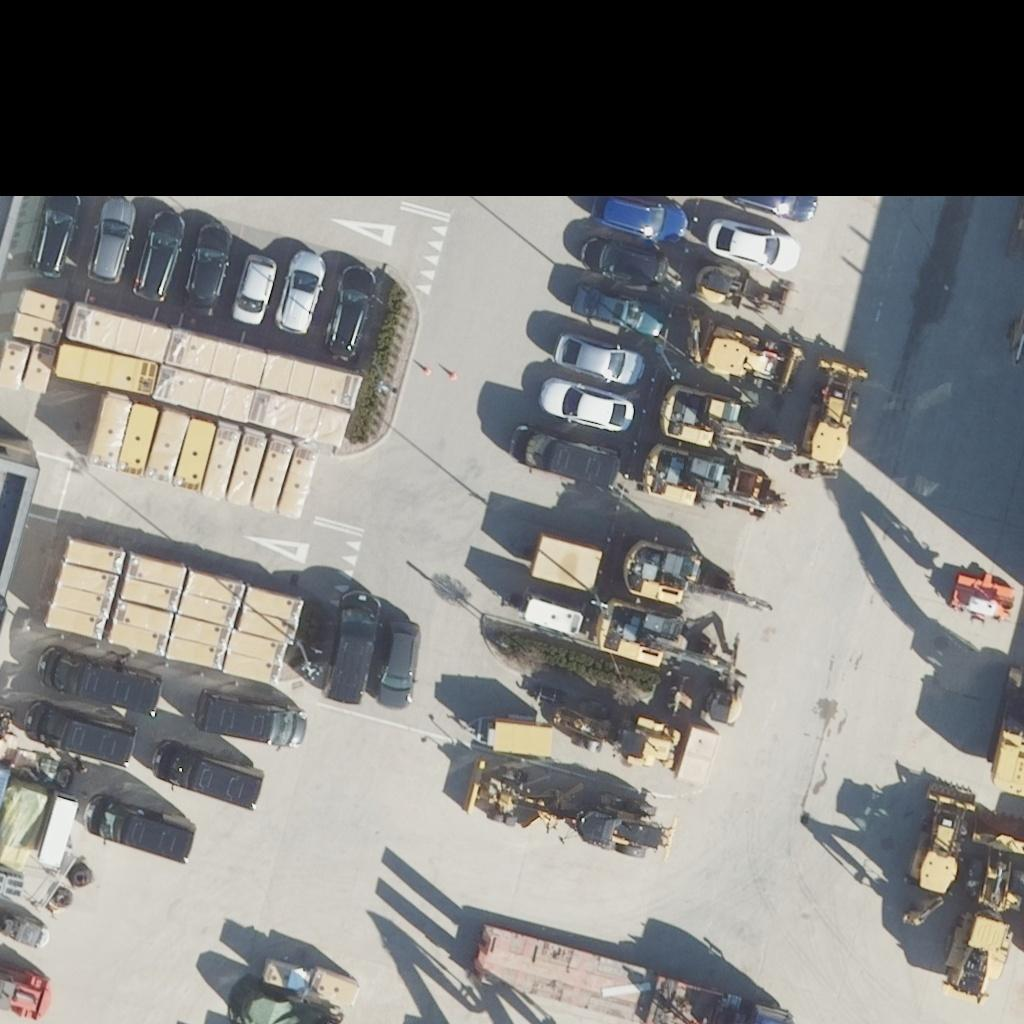koparka: (456, 751, 696, 866), (468, 676, 694, 770), (592, 594, 764, 690), (894, 774, 978, 930), (618, 535, 778, 615), (640, 444, 786, 531), (963, 805, 1024, 1004), (656, 384, 801, 454), (686, 310, 812, 389), (699, 252, 813, 320)
samochod_osobowy: (30, 638, 170, 721), (148, 732, 282, 818), (16, 700, 153, 779), (85, 795, 212, 875), (506, 428, 634, 502), (188, 680, 314, 753), (322, 585, 382, 712), (379, 596, 432, 728), (534, 379, 644, 441), (706, 215, 811, 278), (588, 196, 700, 254), (547, 330, 652, 390), (570, 286, 674, 344), (139, 201, 190, 313), (577, 238, 680, 293), (330, 252, 380, 363), (278, 240, 329, 345), (191, 211, 235, 327), (88, 197, 138, 289), (32, 198, 84, 283), (238, 230, 278, 338), (718, 194, 824, 224)
spychacz: (812, 355, 869, 489)
